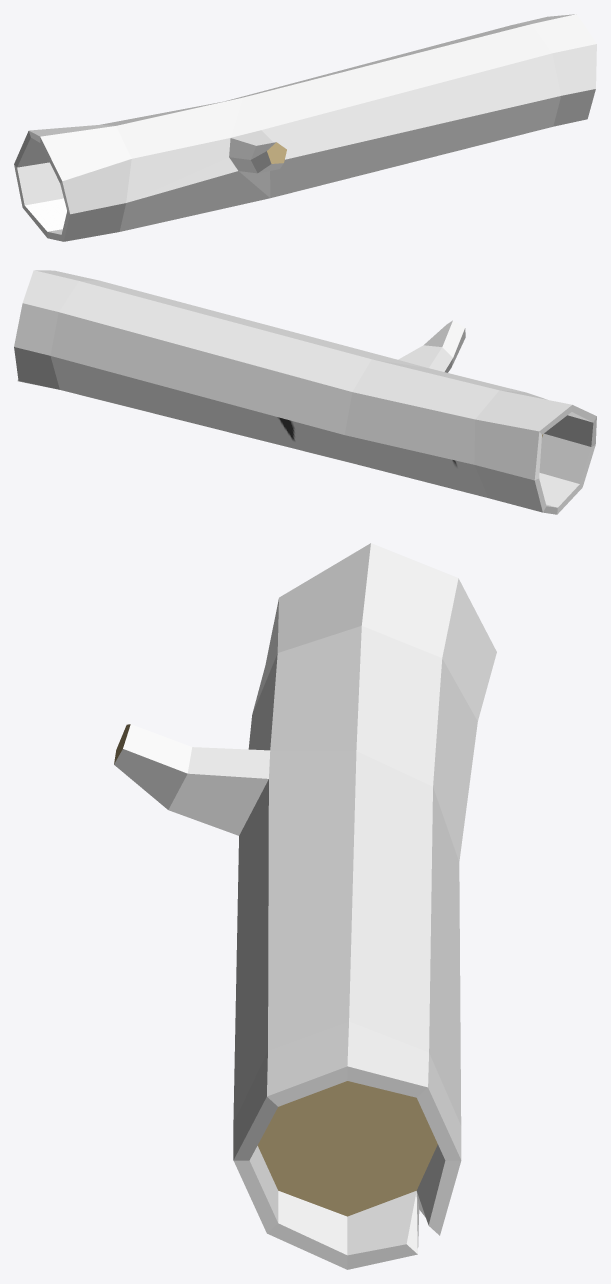
File: Birch_Log_Snow_08_LOD.fbx
3 views of the same model, one above another, from view 1: azimuth 30°, elevation 25°; view 2: azimuth 150°, elevation 25°; view 3: azimuth 270°, elevation 25° (orthographic). The views are drawn at different scales.
Visible parts, largest first — view 1: Birch_Log_Snow_08_LOD0; view 2: Birch_Log_Snow_08_LOD0; view 3: Birch_Log_Snow_08_LOD0.
Boxes of the visible parts, left/top/right/bottom form: Birch_Log_Snow_08_LOD0: left=14, top=14, right=596, bottom=241; Birch_Log_Snow_08_LOD0: left=14, top=270, right=596, bottom=514; Birch_Log_Snow_08_LOD0: left=114, top=543, right=496, bottom=1269.
Size of what is drawn, in the model's own units: 171 by 33.5 by 53.37.
